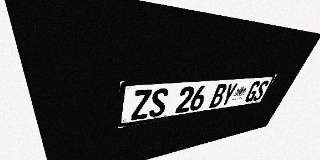2: (175, 86, 196, 113)
6: (189, 85, 209, 111)
B: (209, 83, 228, 108)
G: (243, 81, 262, 103)
S: (148, 88, 169, 118), (252, 80, 270, 101)
Y: (219, 83, 239, 106)
Z: (131, 89, 152, 120)
